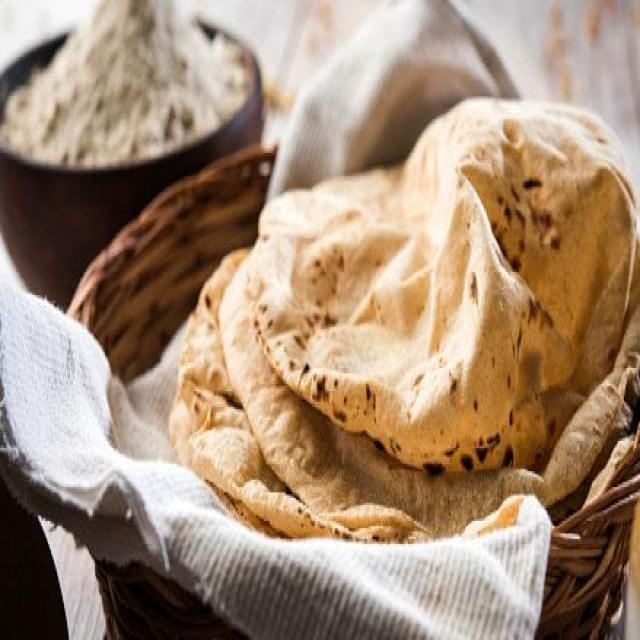ROTI: (247, 99, 639, 482), (177, 242, 349, 545)
